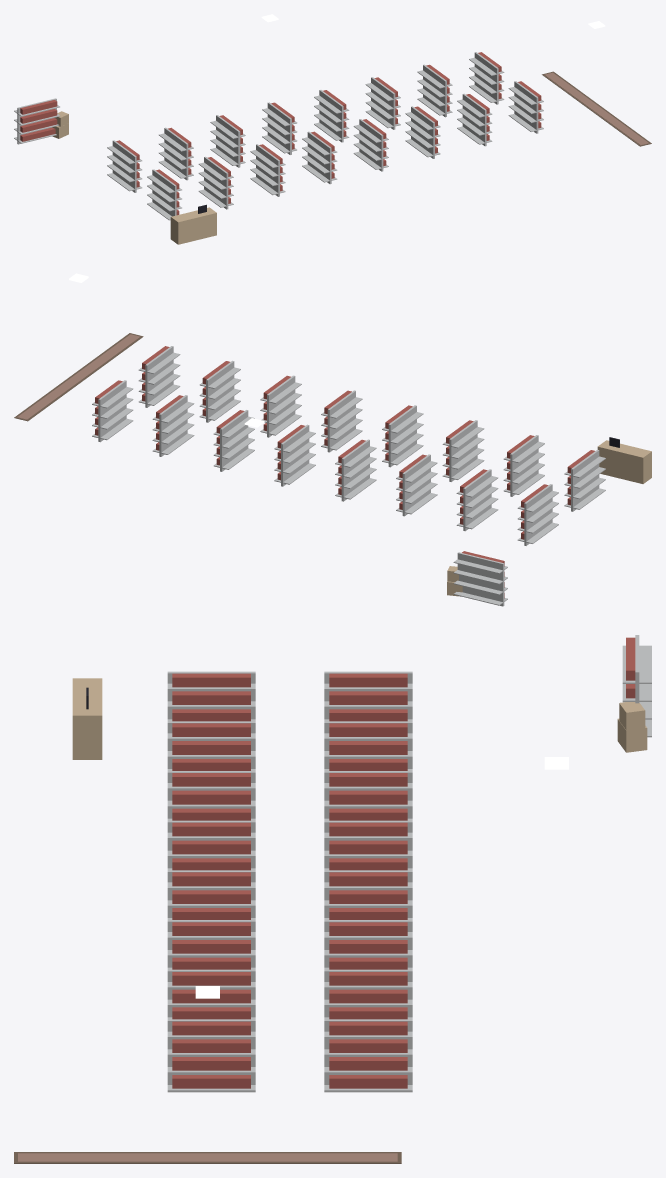
Rendered from fine-s0.glb.
3 views of the same model, one above another, from view 1: azimuth 30°, elevation 25°; view 2: azimuth 150°, elevation 25°; view 3: azimuth 270°, elevation 25° (orthographic). The views are drawn at different scales.
Visible parts, largest first — view 1: shelving.000, shop-counter.000, shelf.002, shelf.008, shelf.013, shelf.007, shelf.009, shelf.000, shelf.015, shelf.014, shelf.006, shelf.010 (+7 smaller); view 2: shelving.000, shop-counter.000, shelf.001, shelf.008, shelf.011, shelf.013, shelf.009, shelf.006, shelf.015, shelf.004, shelf.007, shelf.012 (+7 smaller); view 3: shelf.014, shelf.015, soft-s0, shelf.000, shelf.006, shelf.012, shelf.001, shelf.007, shelf.002, shelf.003, shelf.004, shelf.005 (+8 smaller).
Part boxes in pixels (x1,y1,x2,y2): shelving.000: [14, 98, 59, 144]; shop-counter.000: [170, 204, 216, 244]; shelf.002: [159, 127, 193, 180]; shelf.008: [314, 90, 349, 142]; shelf.013: [457, 93, 492, 146]; shelf.007: [302, 131, 337, 184]; shelf.009: [353, 119, 388, 171]; shelf.000: [107, 140, 142, 192]; shelf.015: [508, 81, 543, 133]; shelf.014: [469, 52, 504, 104]; shelf.006: [262, 102, 297, 154]; shelf.010: [365, 77, 400, 129]; shelving.000: [453, 551, 507, 606]; shop-counter.000: [597, 437, 651, 483]; shelf.001: [564, 449, 605, 511]; shelf.008: [274, 424, 315, 486]; shelf.011: [260, 375, 301, 437]; shelf.013: [199, 360, 240, 422]; shelf.009: [321, 390, 362, 452]; shelf.006: [335, 439, 376, 501]; shelf.015: [138, 346, 180, 407]; shelf.004: [396, 454, 437, 516]; shelf.007: [382, 405, 423, 467]; shelf.012: [152, 395, 194, 456]; shelf.014: [324, 1019, 412, 1092]; shelf.015: [167, 1019, 255, 1092]; soft-s0: [14, 1152, 401, 1163]; shelf.000: [324, 671, 412, 721]; shelf.006: [324, 820, 412, 870]; shelf.012: [324, 969, 412, 1019]; shelf.001: [167, 671, 255, 721]; shelf.007: [167, 820, 255, 870]; shelf.002: [324, 721, 412, 770]; shelf.003: [167, 721, 255, 770]; shelf.004: [324, 771, 412, 820]; shelf.005: [167, 771, 255, 820].
Size of the model in its own units: 22.1 by 3.76 by 13.02.
